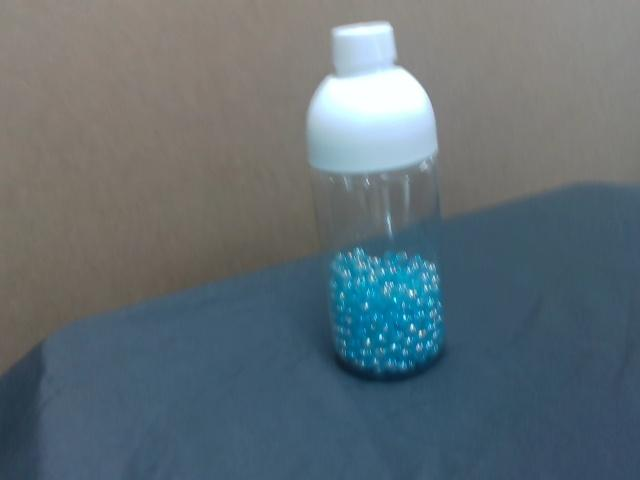blue_bottle: (324, 243, 449, 375)
